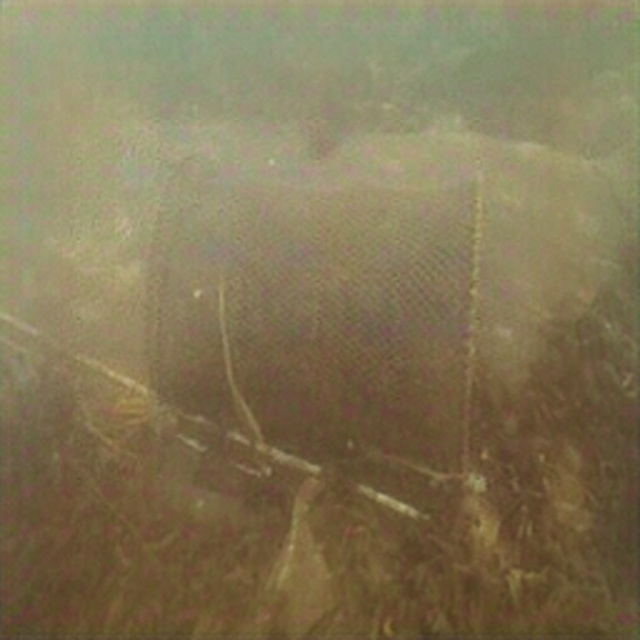mine: (139, 149, 483, 487)
